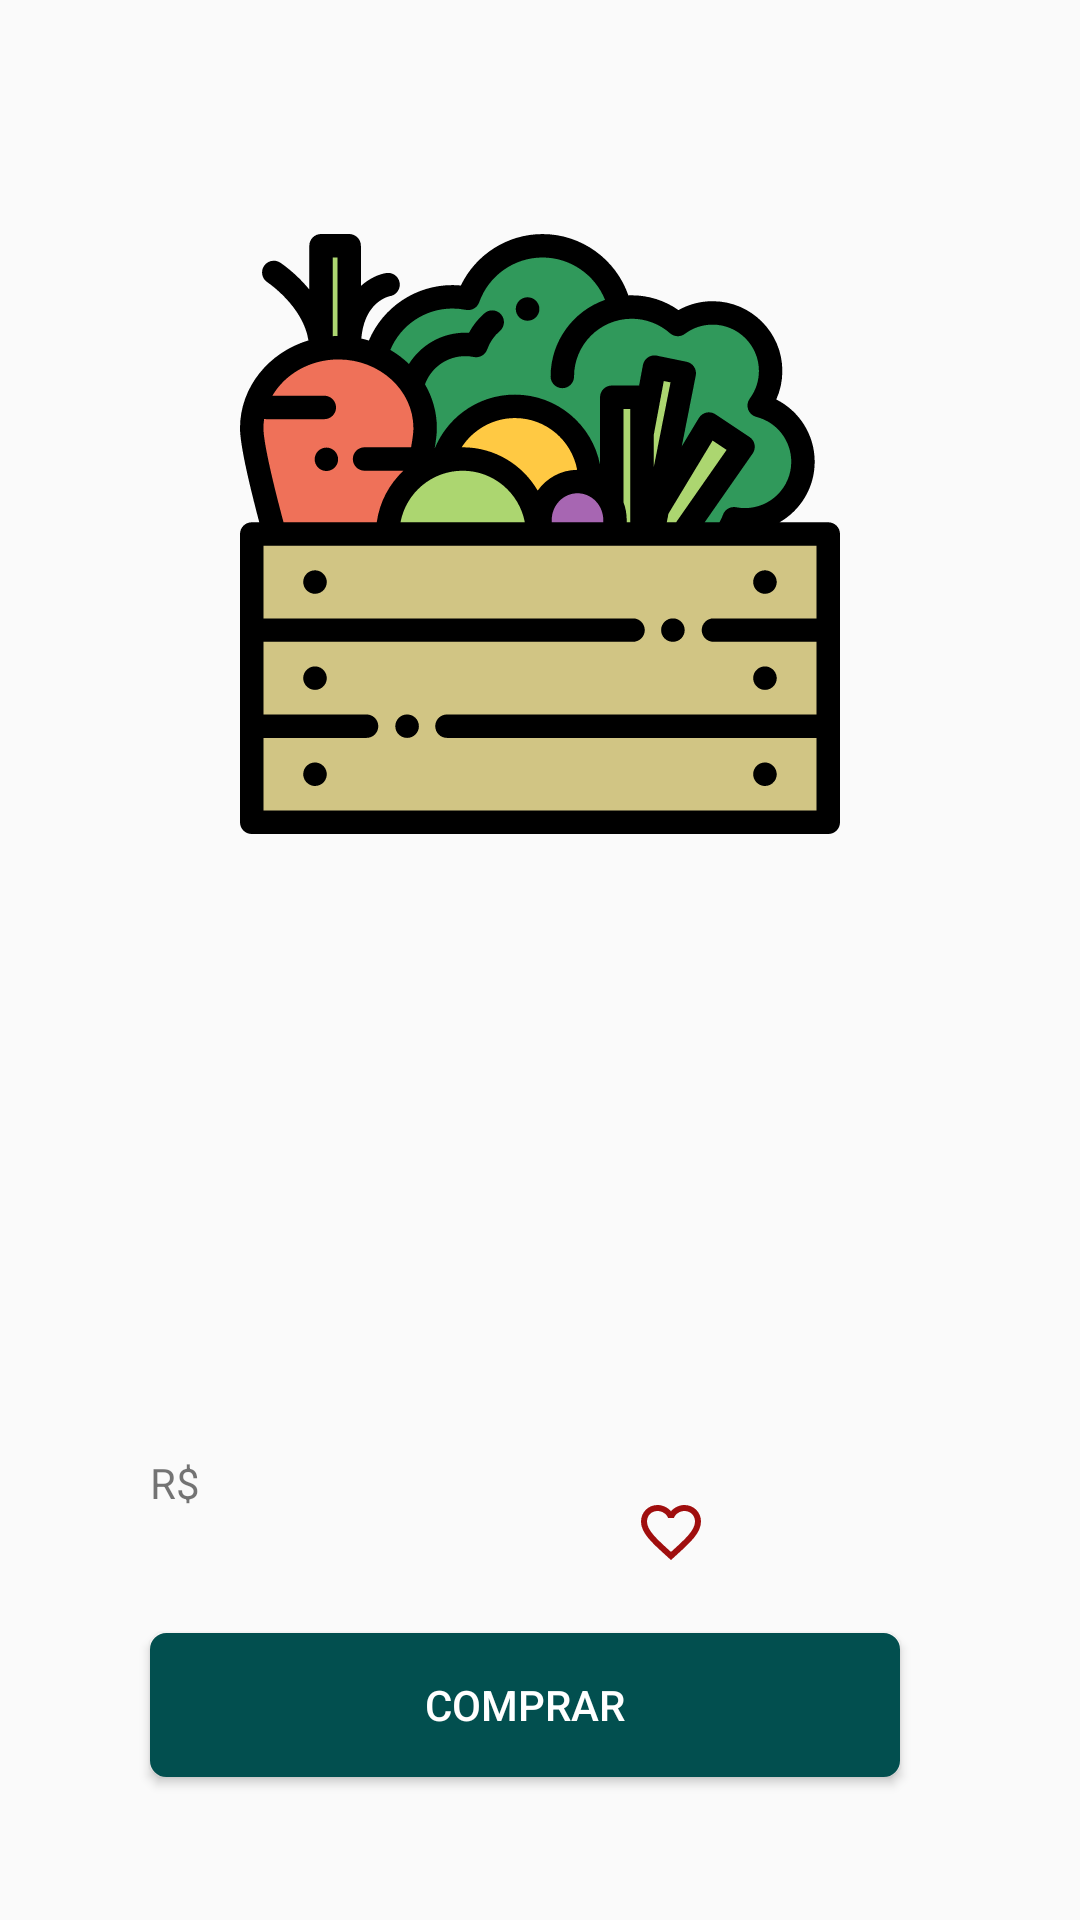

Icon click points for this 1080w x 1920h phone screenshot, format point (x, y):
non favorites: point (671, 1532)
